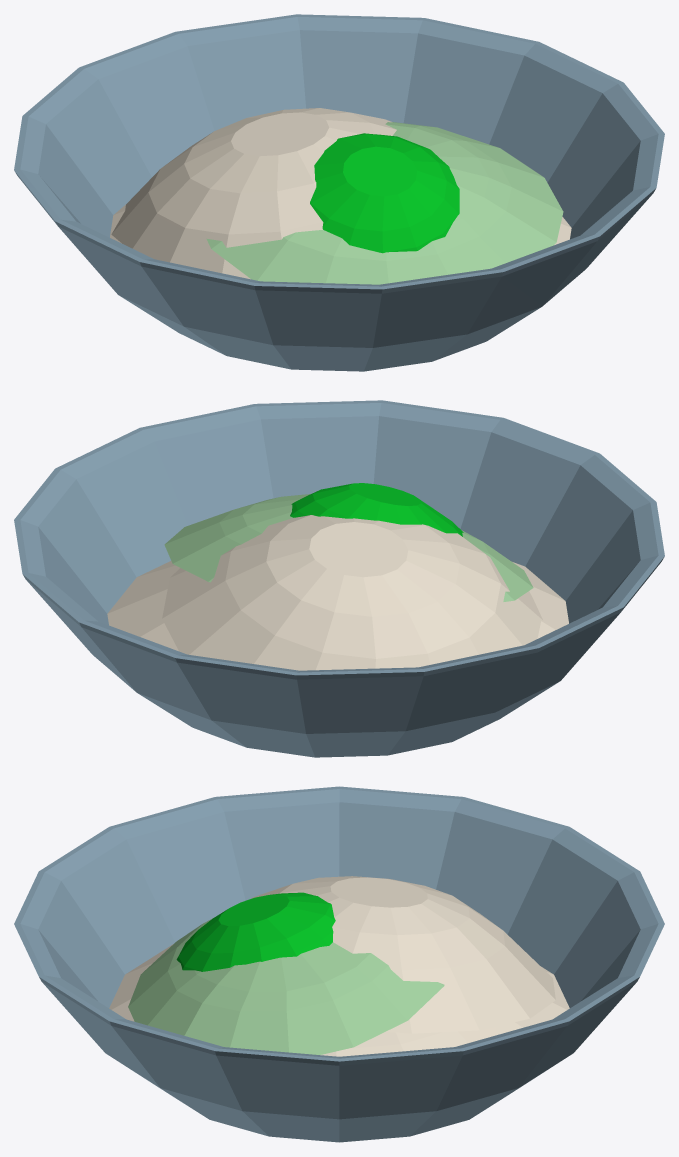
The model's file is UnmixedBatter.fbx.
3 renders of one model, top to bottom at view 1: azimuth 30°, elevation 25°; view 2: azimuth 150°, elevation 25°; view 3: azimuth 270°, elevation 25°, orthographic.
Visible parts, largest first — view 1: Bowl, Egg, Sugar; view 2: Bowl, Sugar, Egg, Flour; view 3: Bowl, Egg, Sugar, Flour.
Boxes of the visible parts, x1=… form: Bowl: x1=14, y1=14, x2=664, y2=371; Egg: x1=206, y1=122, x2=563, y2=284; Sugar: x1=111, y1=108, x2=396, y2=279; Bowl: x1=14, y1=400, x2=664, y2=757; Sugar: x1=162, y1=515, x2=542, y2=670; Egg: x1=164, y1=483, x2=533, y2=601; Flour: x1=107, y1=561, x2=568, y2=651; Bowl: x1=14, y1=786, x2=664, y2=1142; Egg: x1=128, y1=892, x2=444, y2=1054; Sugar: x1=251, y1=876, x2=555, y2=1033; Flour: x1=109, y1=944, x2=569, y2=1056.
Bounding box in the file's own units: 43.03 × 11.89 × 43.03.
